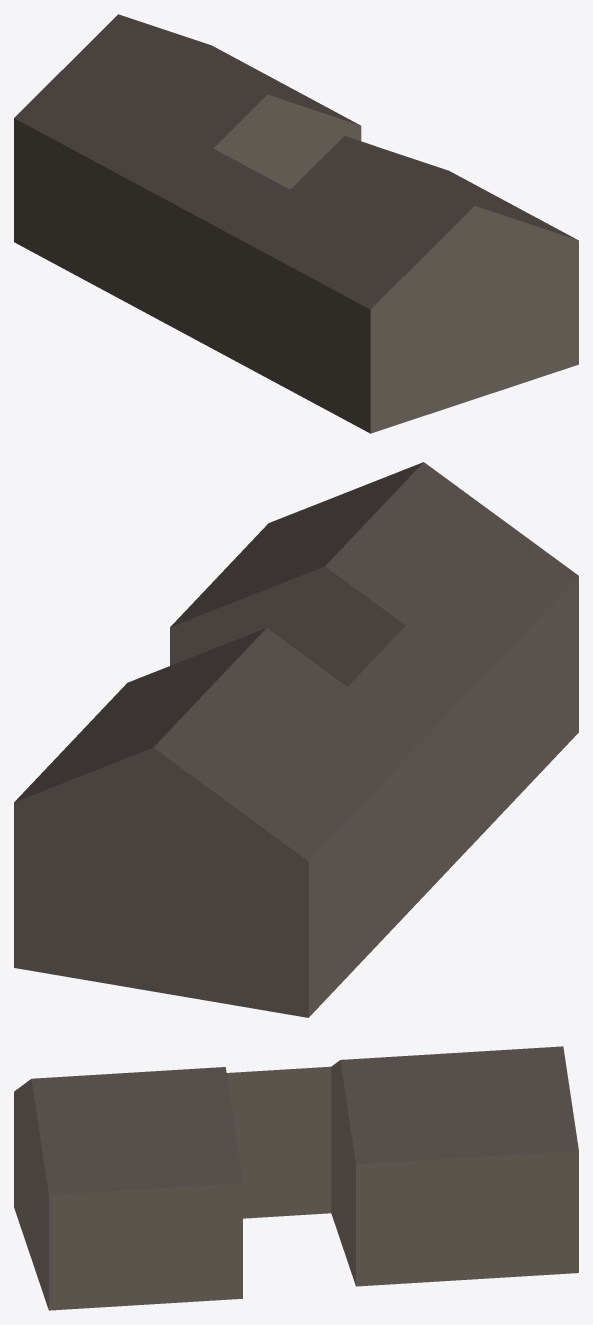
3 renders of one model, top to bottom at view 1: azimuth 30°, elevation 25°; view 2: azimuth 150°, elevation 25°; view 3: azimuth 270°, elevation 25°, orthographic. The views are drawn at different scales.
Parts seen in each view (by area): view 1: HP-w1376988702; view 2: HP-w1376988702; view 3: HP-w1376988702.
Part boxes in pixels (x1,y1,x2,y2): HP-w1376988702: [14, 14, 578, 433]; HP-w1376988702: [14, 462, 578, 1017]; HP-w1376988702: [14, 1046, 578, 1310].
Size of the model in its own units: 15.1 by 9.35 by 26.58.
